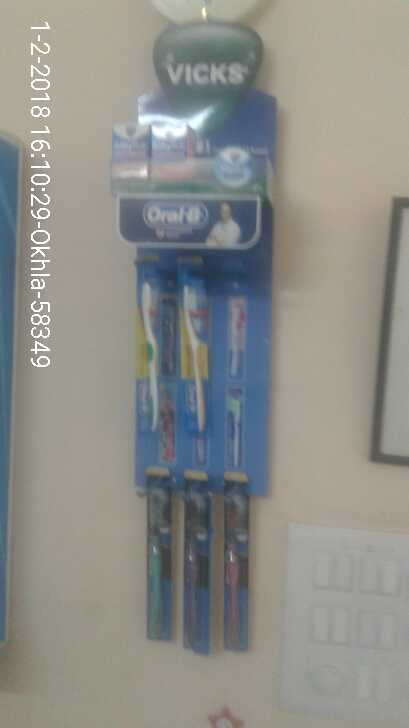pharmacy: (107, 106, 203, 182), (131, 269, 167, 450), (220, 486, 253, 653), (174, 273, 204, 453), (146, 479, 175, 647), (181, 485, 208, 653)
